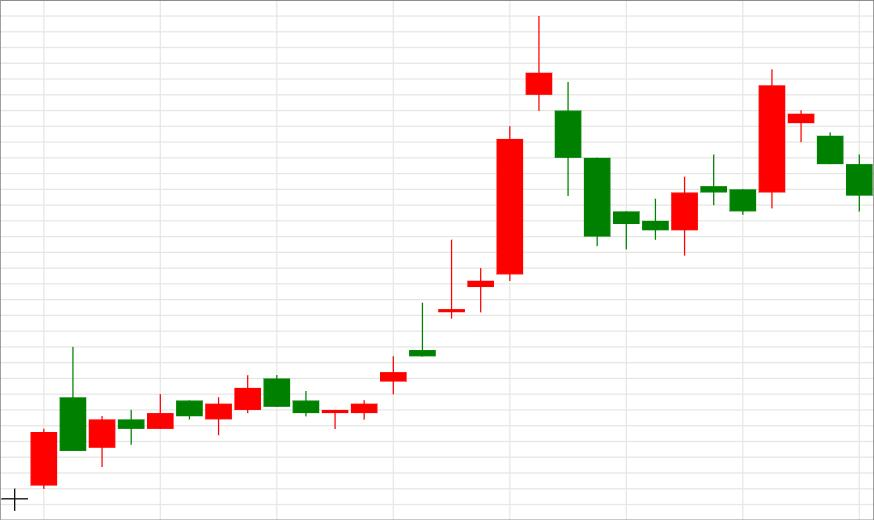evening_star_fall: (322, 16, 582, 430)
